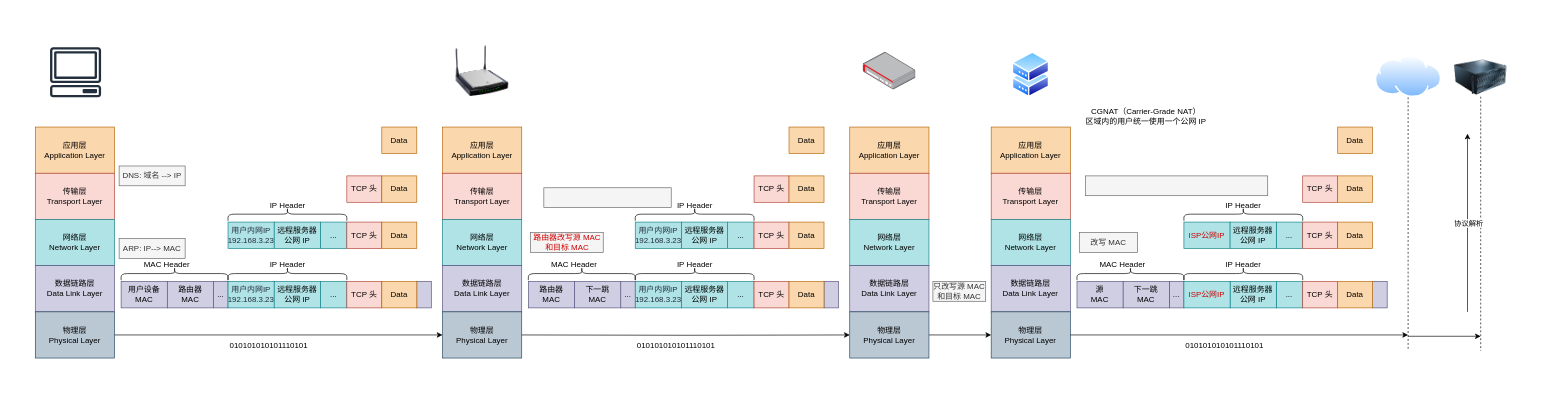
Some shapes in this 1551 by 399 pixel diagram are drawn without their labels. The shapes that lost their labels are listed below. From the top down, each one's centre as x and y in pixels, then its label:
(x=75, y=72): 用户设备 内网 IP：192.168.3.23
(x=481, y=70): 路由器 内网 IP：192.168.3.1
(x=889, y=70): 光猫 私有 IP：192.168.1.1
(x=1030, y=74): ISP CGNAT 公网 IP
(x=1408, y=76): 公网
(x=1480, y=76): 服务器
(x=607, y=197): 路由器还未进行 NAT，不改写源 IP
(x=1176, y=185): 进行 NAT，改写源 IP 和端口号，记录 NAT 映射表
